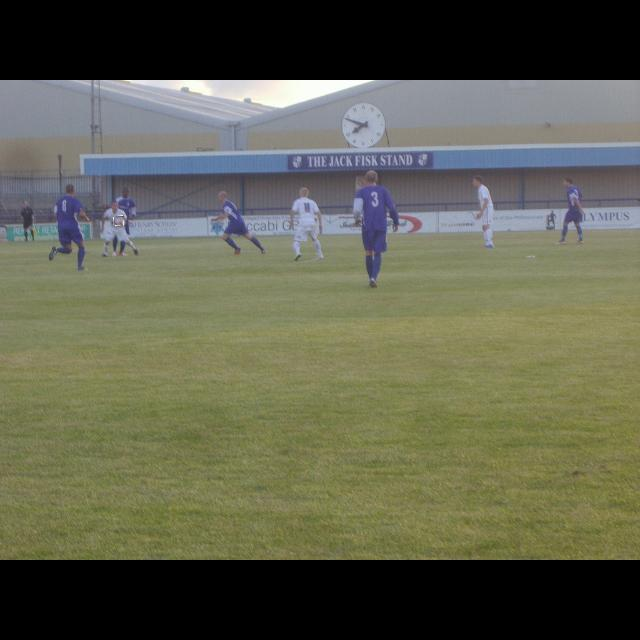Football: (114, 216, 124, 226)
